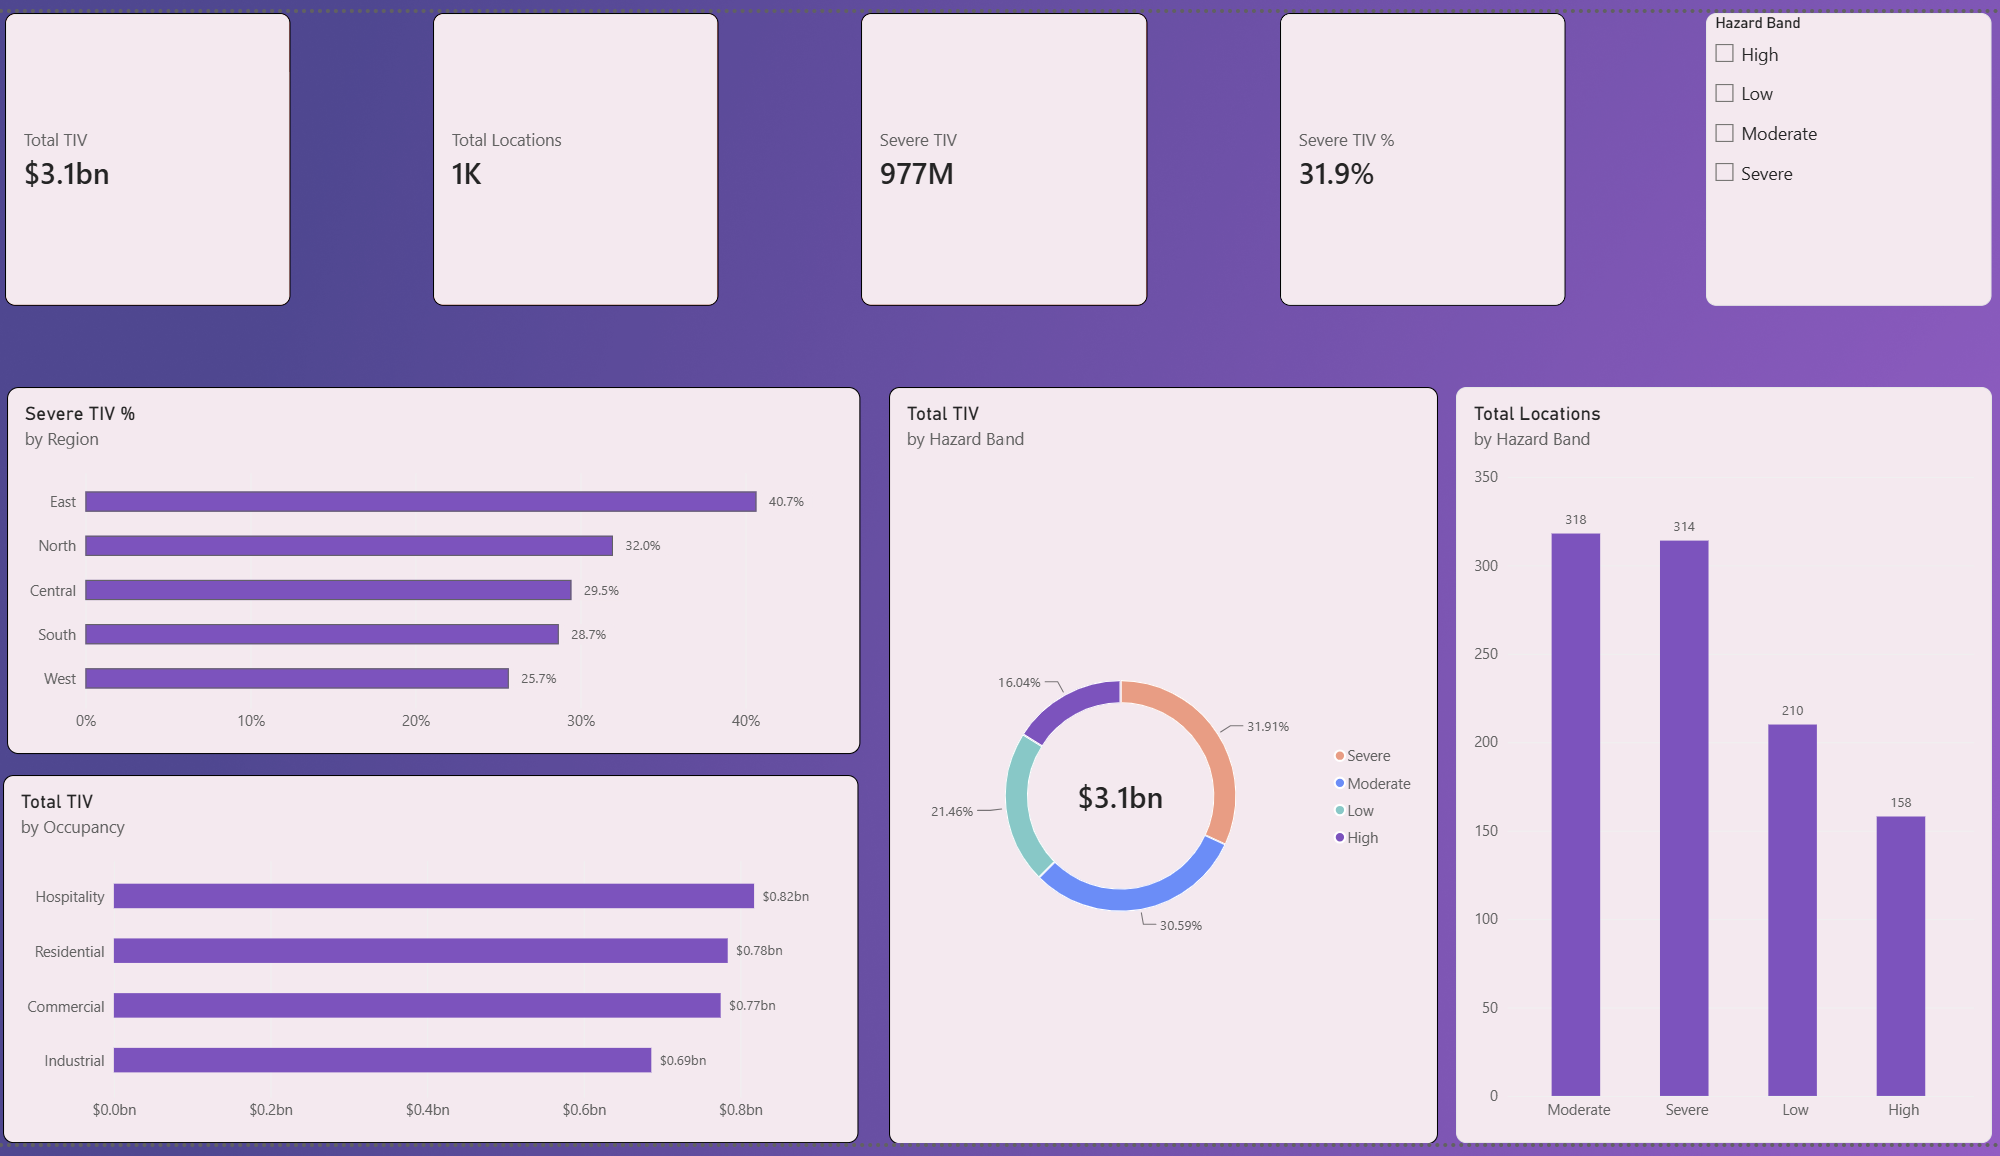

Layout of this report page (visuals, bound fields, positions):
{"tool":"powerbi","page":{"name":"Exposure Overview","canvas":[1920,1080],"ordinal":0},"visuals":[{"type":"cardVisual","fields":{"Data":["Exposure.Total TIV"]},"box":[10,0,273,280],"z":0},{"type":"cardVisual","fields":{"Data":["Exposure.Total Locations"]},"box":[418,0,273,280],"z":1000},{"type":"clusteredBarChart","fields":{"Category":["Exposure.Region"],"Y":["Exposure.Severe TIV %"]},"box":[11.5,357.6,816,351],"z":2000},{"type":"donutChart","fields":{"Y":["Exposure.Total TIV"],"Category":["Hazard.HazardBand"]},"box":[854.8,357.6,524,724],"z":3000},{"type":"cardVisual","fields":{"Data":["Exposure.Severe TIV"]},"box":[828,0,273,280],"z":4000},{"type":"cardVisual","fields":{"Data":["Exposure.Severe TIV %"]},"box":[1228,0,273,280],"z":5000},{"type":"slicer","fields":{"Values":["Hazard.Hazard Band"]},"box":[1635.1,0,273,280],"z":6000},{"type":"clusteredBarChart","fields":{"Category":["Exposure.Occupancy"],"Y":["Exposure.Total TIV"]},"box":[7.6,728.6,818,352],"z":7000},{"type":"clusteredColumnChart","fields":{"Category":["Hazard.Hazard Band"],"Y":["Exposure.Total Locations"]},"box":[1396,357.6,512.5,722.9],"z":8000}]}

Visuals, with their boxes in screenshot pixels (x1, y1, x2, y2), scaled from the page's 1920x1080 canvas onto the 2000x1156 screenshot:
cardVisual - Exposure.Total TIV: [10,0,295,300]
cardVisual - Exposure.Total Locations: [435,0,720,300]
clusteredBarChart - Exposure.Region x Exposure.Severe TIV %: [12,383,862,758]
donutChart - Exposure.Total TIV x Hazard.HazardBand: [890,383,1436,1155]
cardVisual - Exposure.Severe TIV: [863,0,1147,300]
cardVisual - Exposure.Severe TIV %: [1279,0,1564,300]
slicer - Hazard.Hazard Band: [1703,0,1988,300]
clusteredBarChart - Exposure.Occupancy x Exposure.Total TIV: [8,780,860,1155]
clusteredColumnChart - Hazard.Hazard Band x Exposure.Total Locations: [1454,383,1988,1155]
